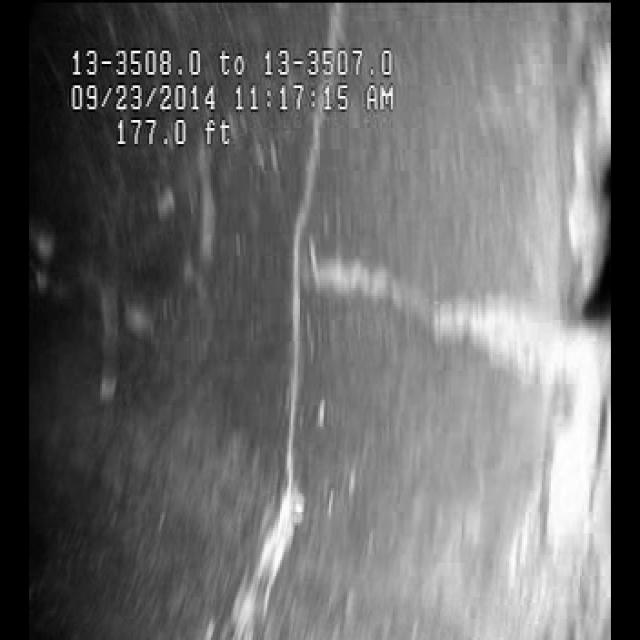Crack: (239, 159, 531, 595)
